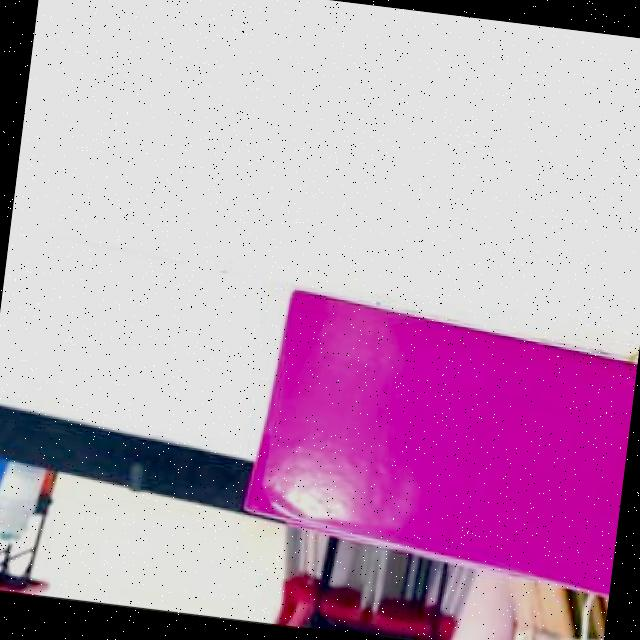xparking: (243, 302, 639, 556)
